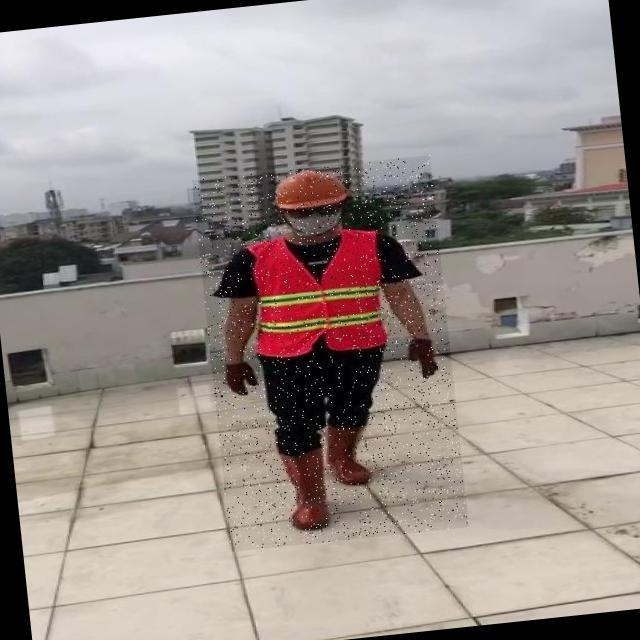Gloves: (406, 335, 440, 380), (221, 360, 259, 396)
Helmet: (265, 163, 354, 213)
Human: (192, 155, 469, 552)
Safety Boot: (279, 448, 335, 535), (322, 417, 375, 488)
Safety Vest: (240, 227, 387, 361)
